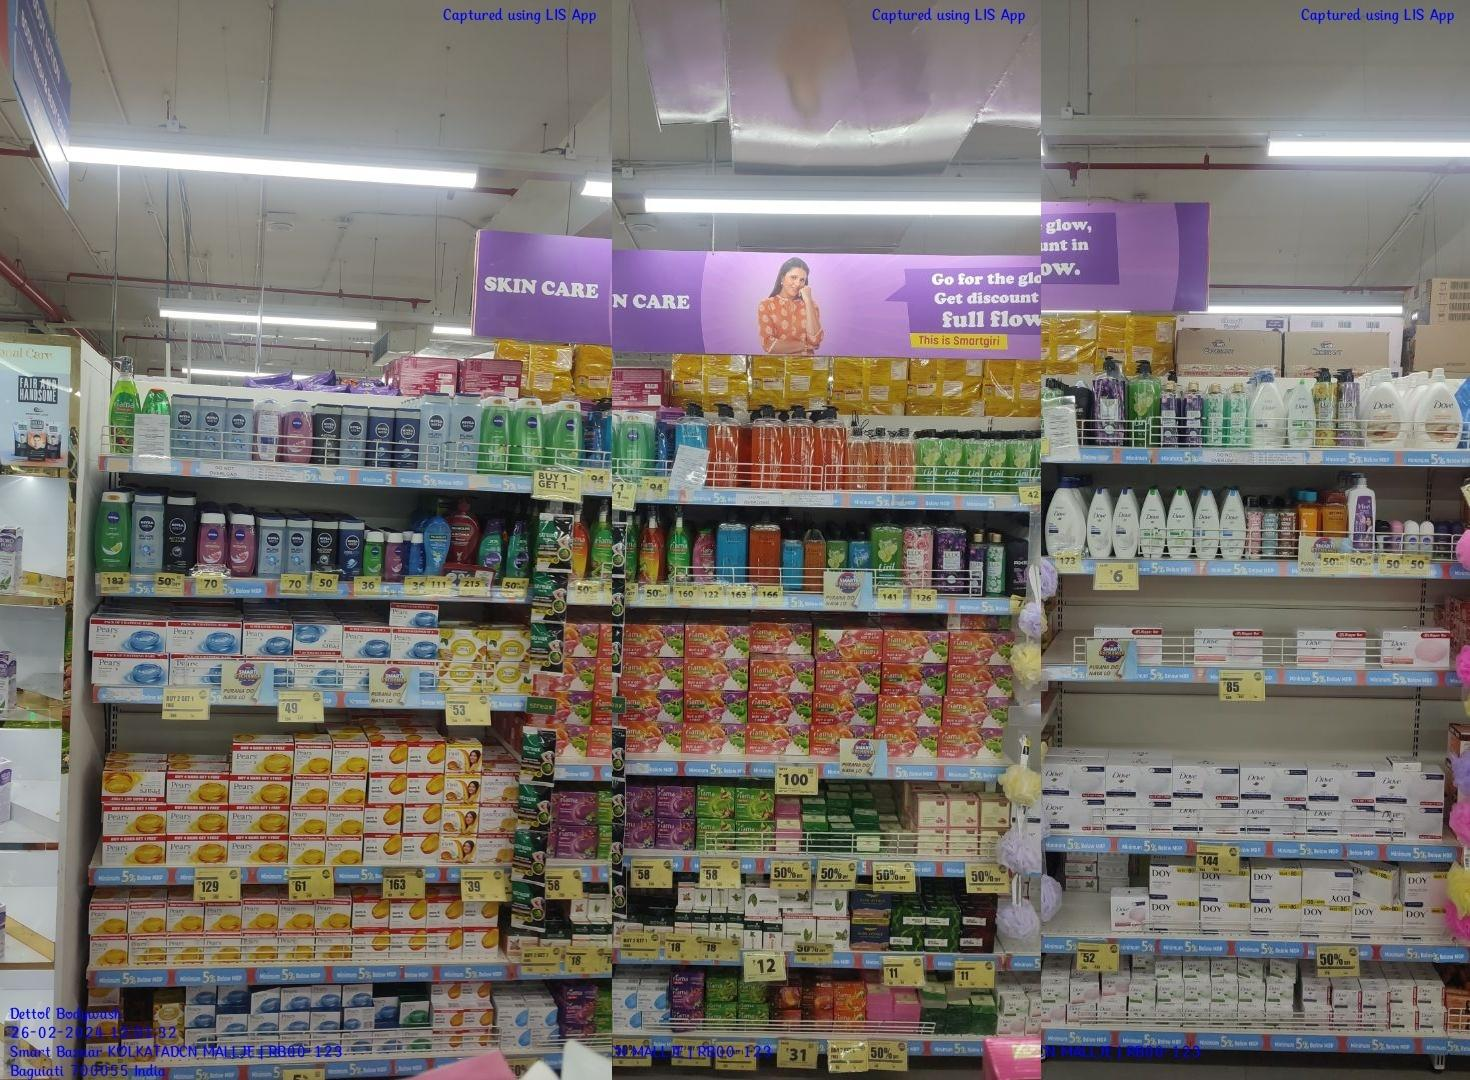Dove_Deep_Moisture_Body_Wash_250ML: (1087, 489, 1112, 559), (1114, 489, 1137, 558)
Dove_Gentle_Exfoliating_Body_Wash_250ML: (1194, 486, 1218, 558), (1220, 490, 1245, 558)
Dove_Refreshing_Body_Wash_250ML: (1140, 489, 1166, 558), (1166, 489, 1193, 558), (1290, 378, 1316, 448)
Liril_Lime_and_Tea_Tree_Oil_Body_Wash_250ML: (871, 514, 903, 593)
Lux_Black_Orchid_Scent_and_Juniper_Oil_Body_Wash_245ML: (1161, 379, 1181, 448), (1184, 380, 1204, 446), (970, 532, 986, 596)
Lux_Body_Wash_Skin_Detox_Freesia_Scent_and_Alove_Vera_245ML: (1229, 382, 1249, 448), (1206, 384, 1226, 448), (987, 533, 1004, 595)
Nivea_Shower_Gel_Lemon_and_Oil_250ML: (99, 492, 130, 572), (552, 402, 583, 473), (515, 398, 544, 472), (484, 397, 511, 469), (621, 412, 651, 477)
